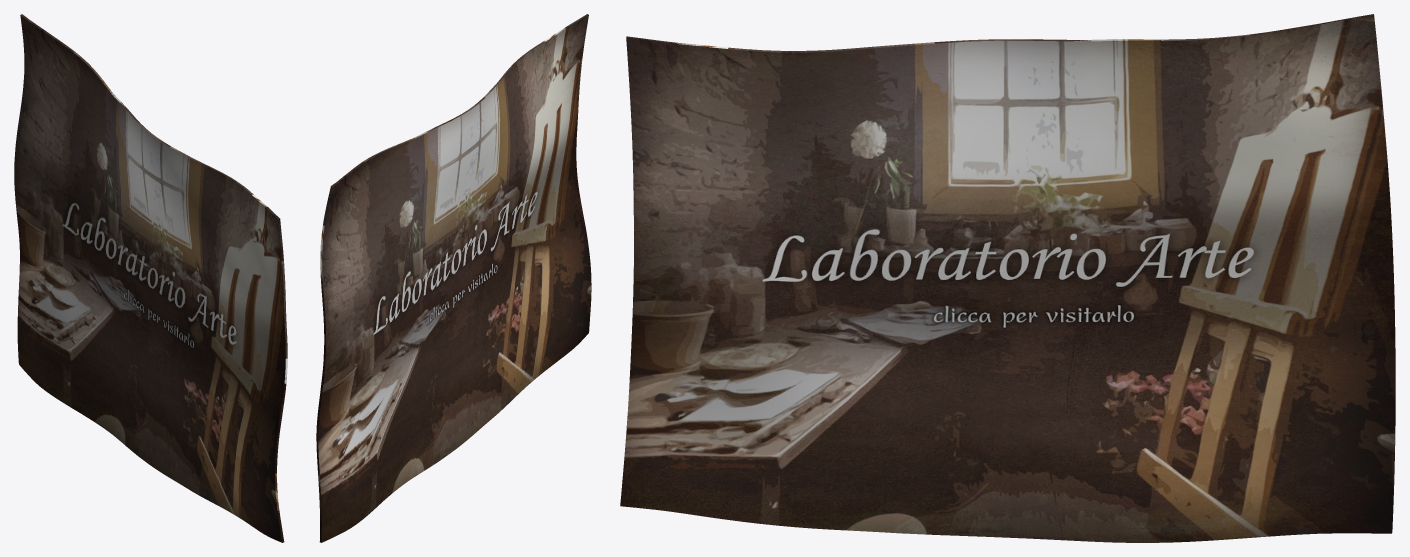
Rendered from artecartellone-v1.glb.
The picture shows the model from 3 angles, left to right: view 1: azimuth 30°, elevation 25°; view 2: azimuth 150°, elevation 25°; view 3: azimuth 270°, elevation 25°; orthographic projection. The views are drawn at different scales.
Visible parts, largest first — view 1: LabArt: Poster lab scultura; view 2: LabArt: Poster lab scultura; view 3: LabArt: Poster lab scultura.
Boxes of the visible parts, box(x1,y1,x2,y2) form: LabArt: Poster lab scultura: box(14, 14, 287, 542); LabArt: Poster lab scultura: box(316, 14, 591, 542); LabArt: Poster lab scultura: box(620, 14, 1395, 542).
Size of the model in its own units: 0.0337 by 0.6457 by 0.8686.
1 material, 1 textured.
